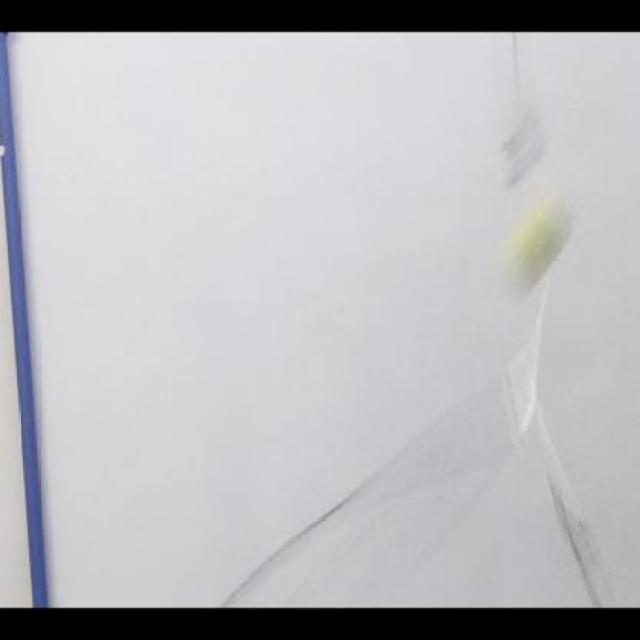baseball: (490, 193, 582, 305)
